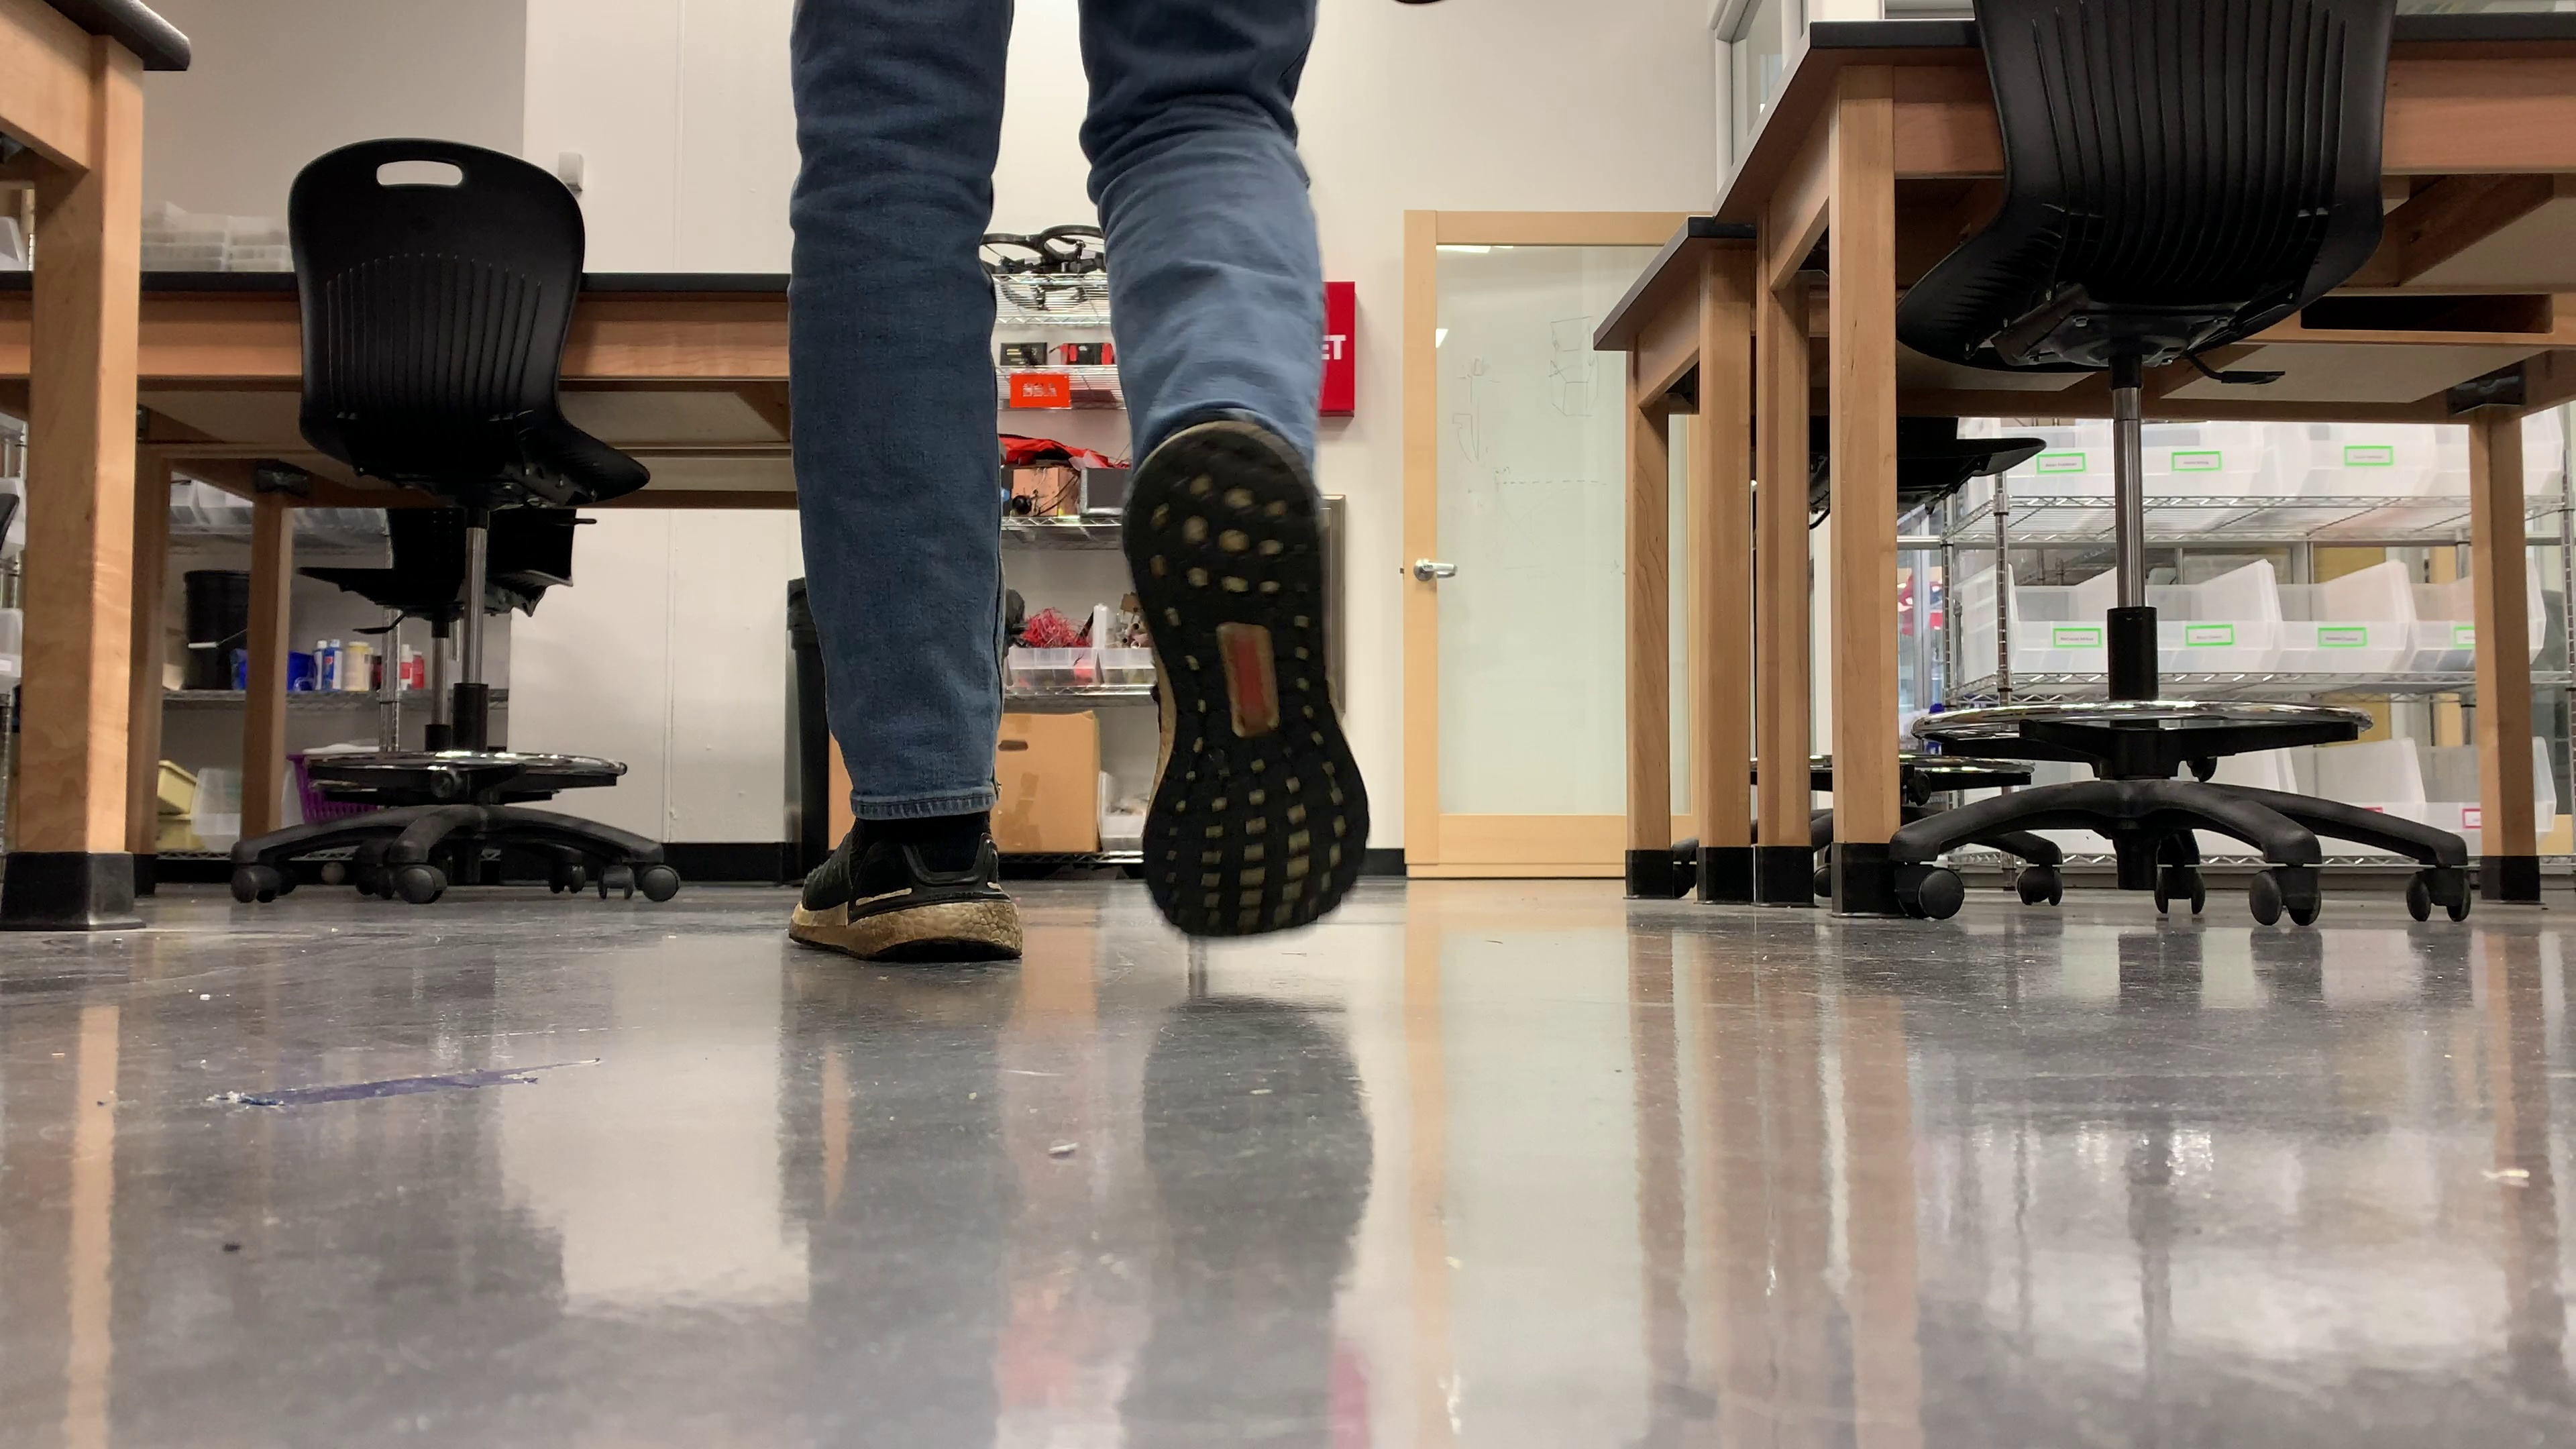shoe: (1122, 402, 1369, 941), (789, 821, 1021, 961)
